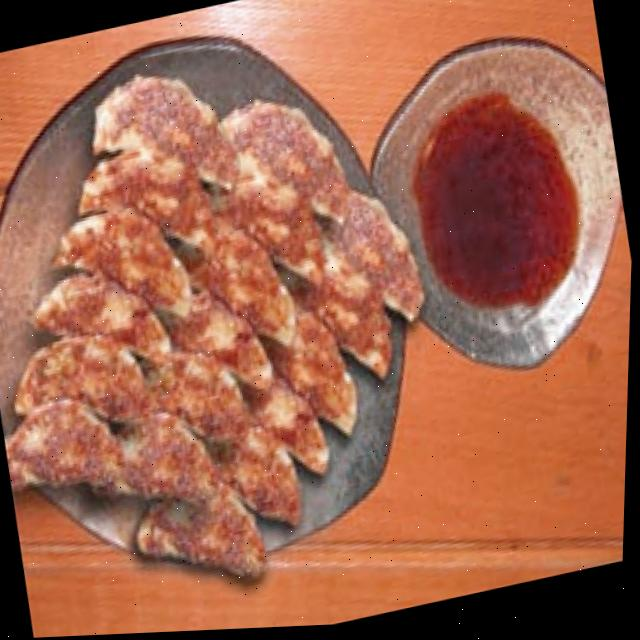带馅早点: (0, 17, 469, 620)
